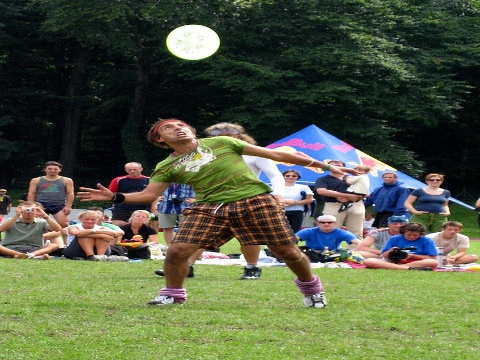hand: (74, 183, 112, 201), (326, 164, 360, 179)
